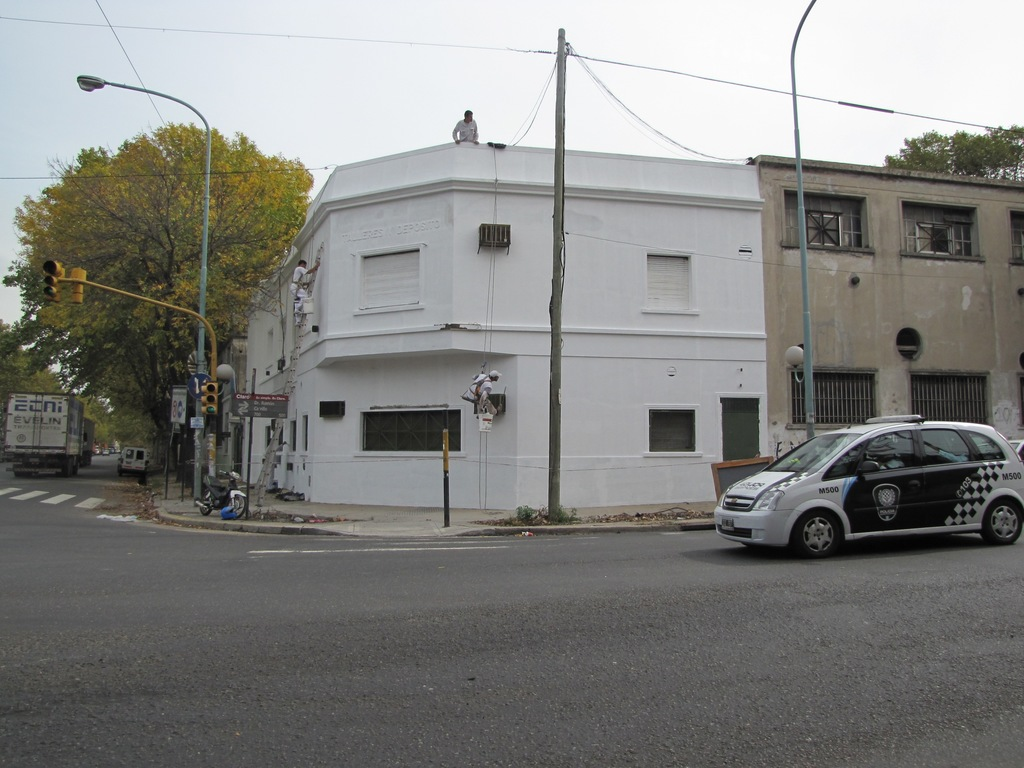Car: (708, 415, 1012, 558), (110, 444, 149, 476)
